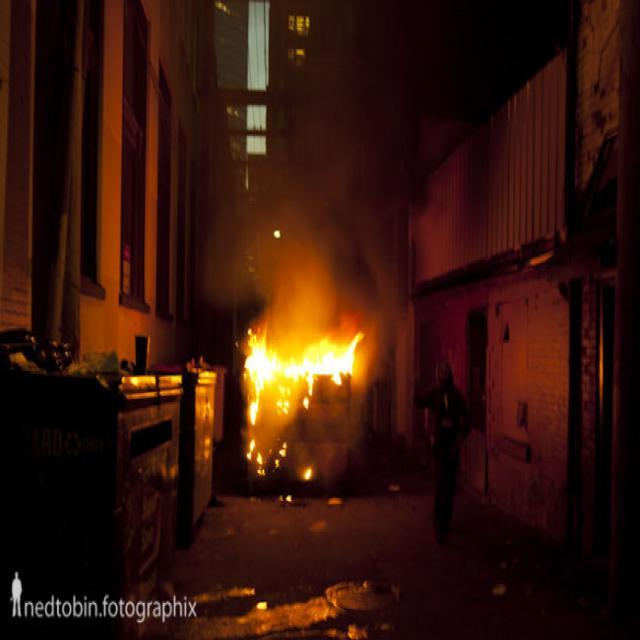Fire: (244, 335, 357, 381)
